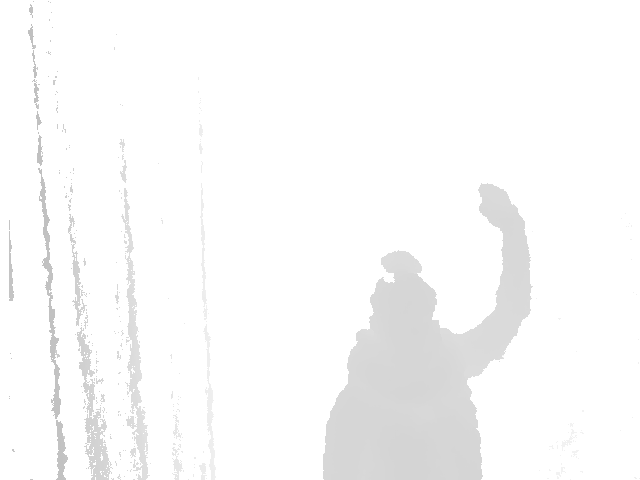hand: (476, 180, 527, 232)
head: (362, 248, 441, 337)
person: (321, 179, 535, 479)
